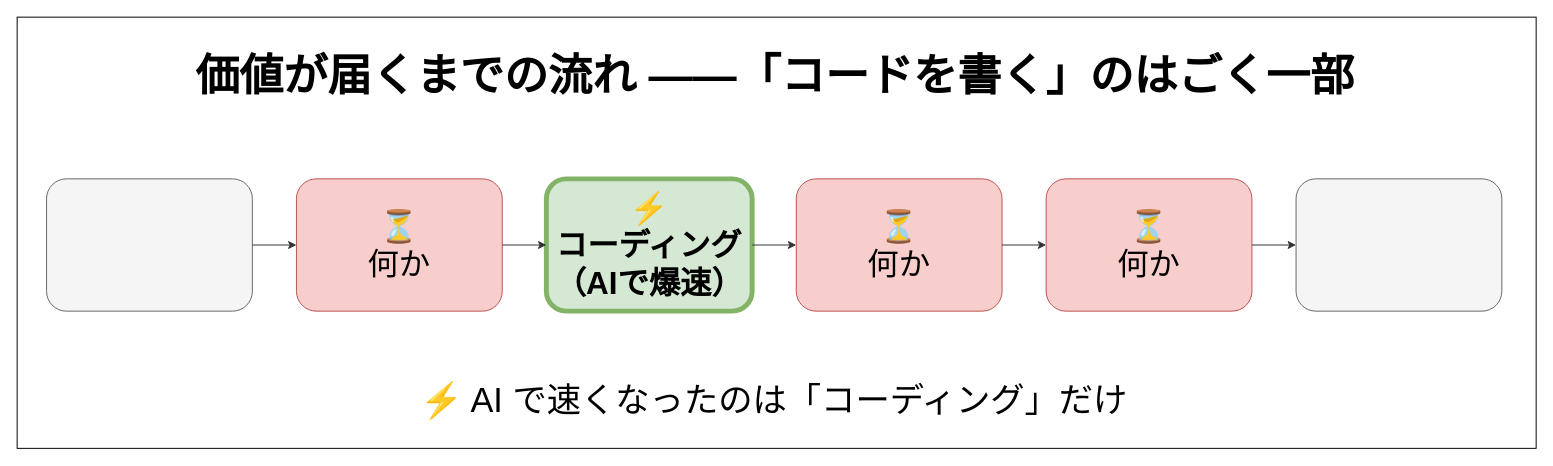
Some shapes in this 1553 by 466 pixel diagram are drawn without their labels. The shapes that lost their labels are listed below. From the top down, each one's box as (x1, y1, x2, y2) in pixels, then its label:
(46, 178, 252, 311): 顧客の要望
(1295, 178, 1502, 311): 価値が顧客へ届く
